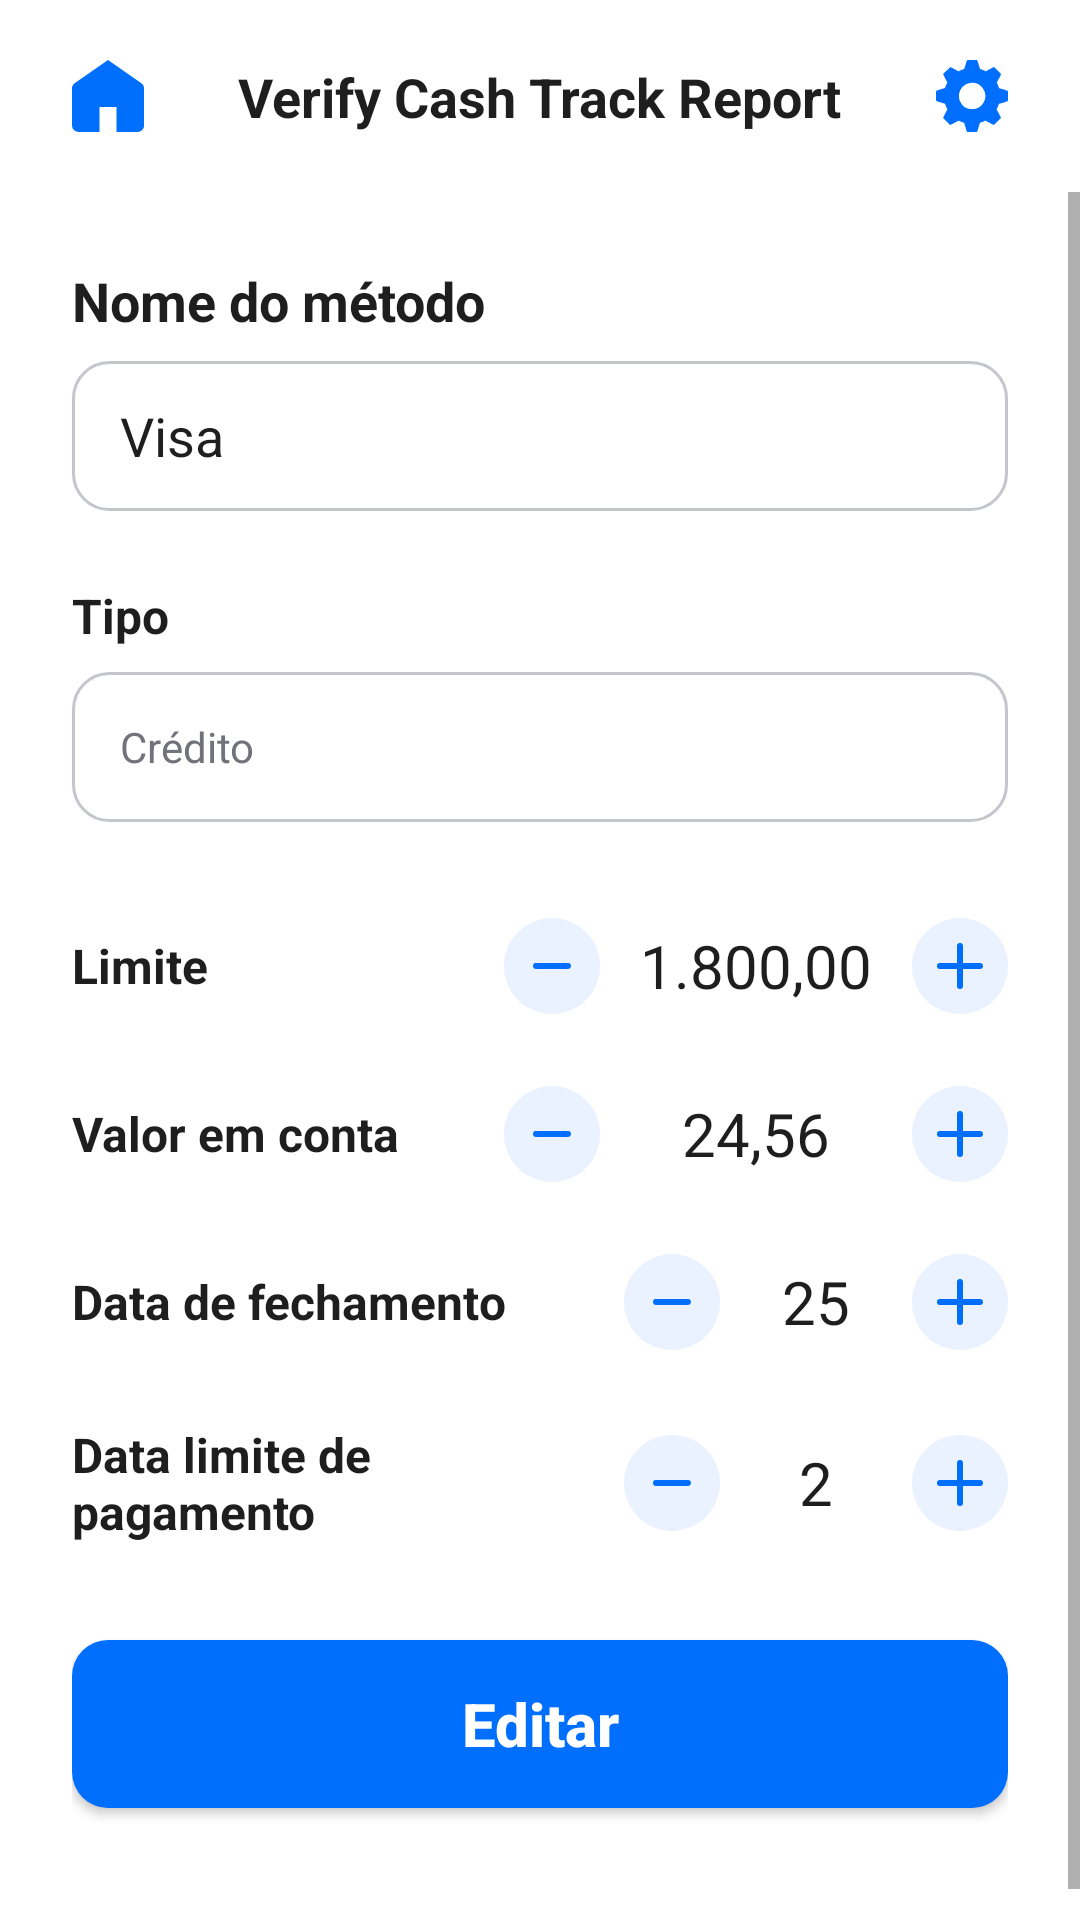

Icons on this 1080px×1920px Android screen, each with its box as (x1, y1, x2, y2):
Configurações: (936, 60, 1008, 132)
Home: (72, 60, 144, 132)
plus: (912, 918, 1008, 1014), (912, 1086, 1008, 1182), (912, 1254, 1008, 1350), (912, 1435, 1008, 1531)
